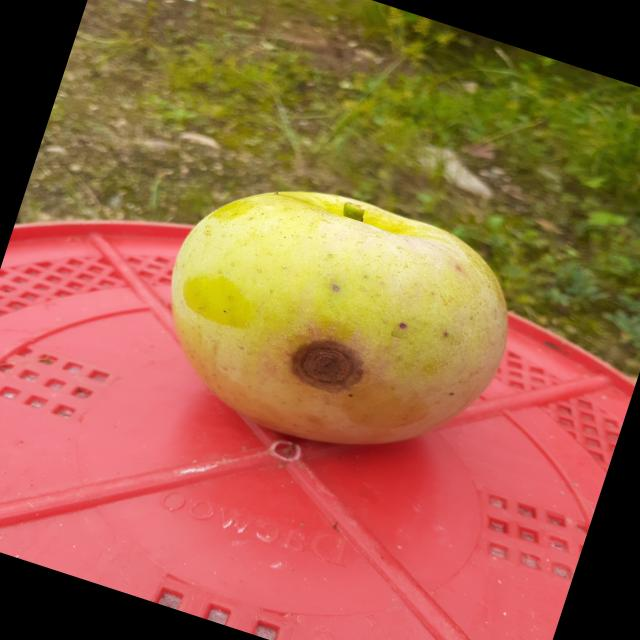rotten: (126, 143, 543, 498)
